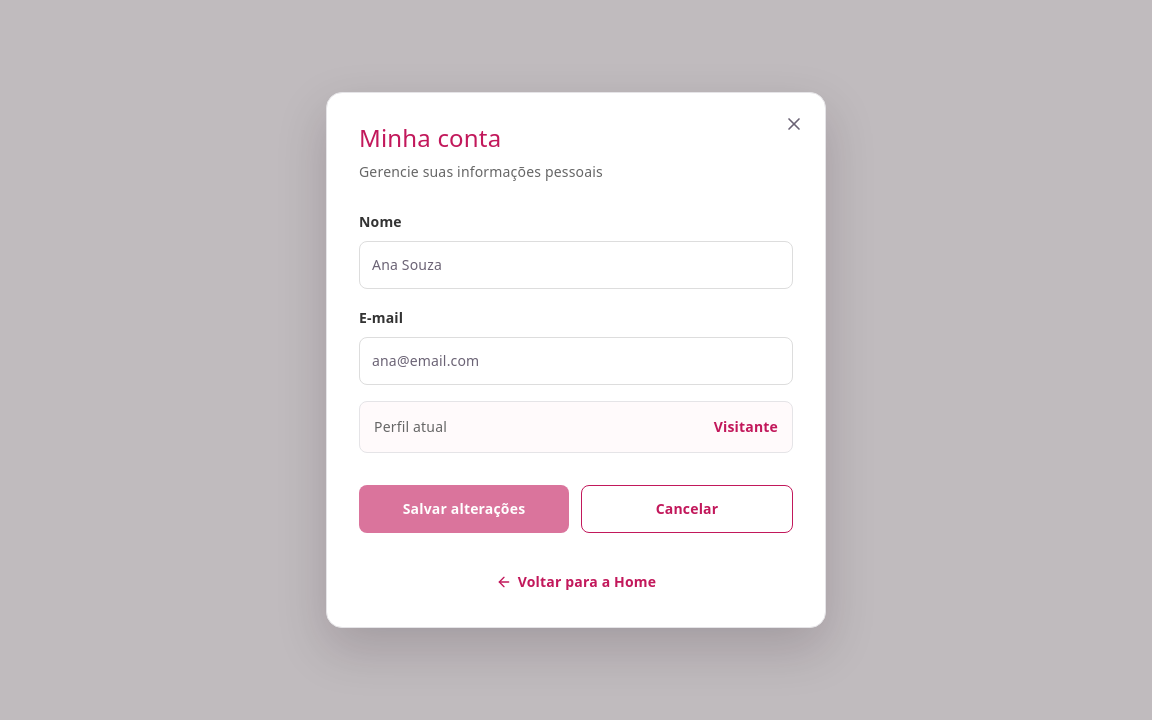
Test: Profile › salvar alterações › mostra o erro do backend (ex.: e-mail de outra conta)
The width and height of the screenshot is (1152, 720).
Replace the text in the field labelled "E-mail" with "outra@email.com": (576, 361) [359, 337, 793, 385]
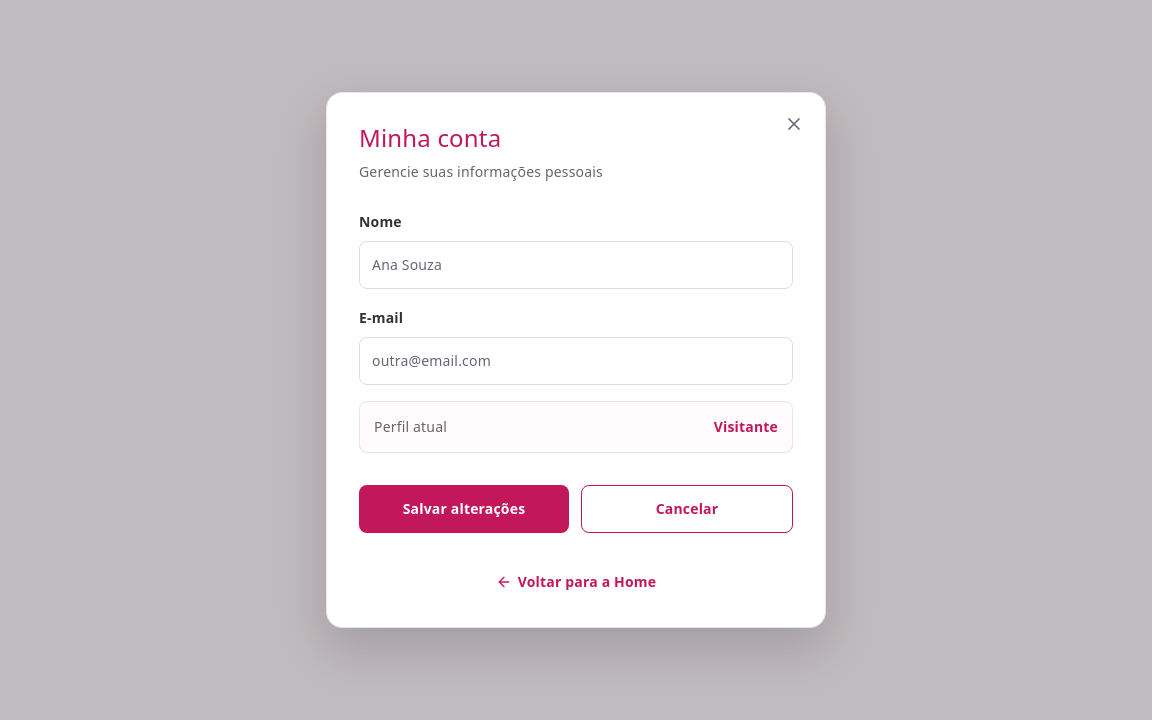
Click the button "Salvar alterações": (464, 509) [359, 485, 569, 533]
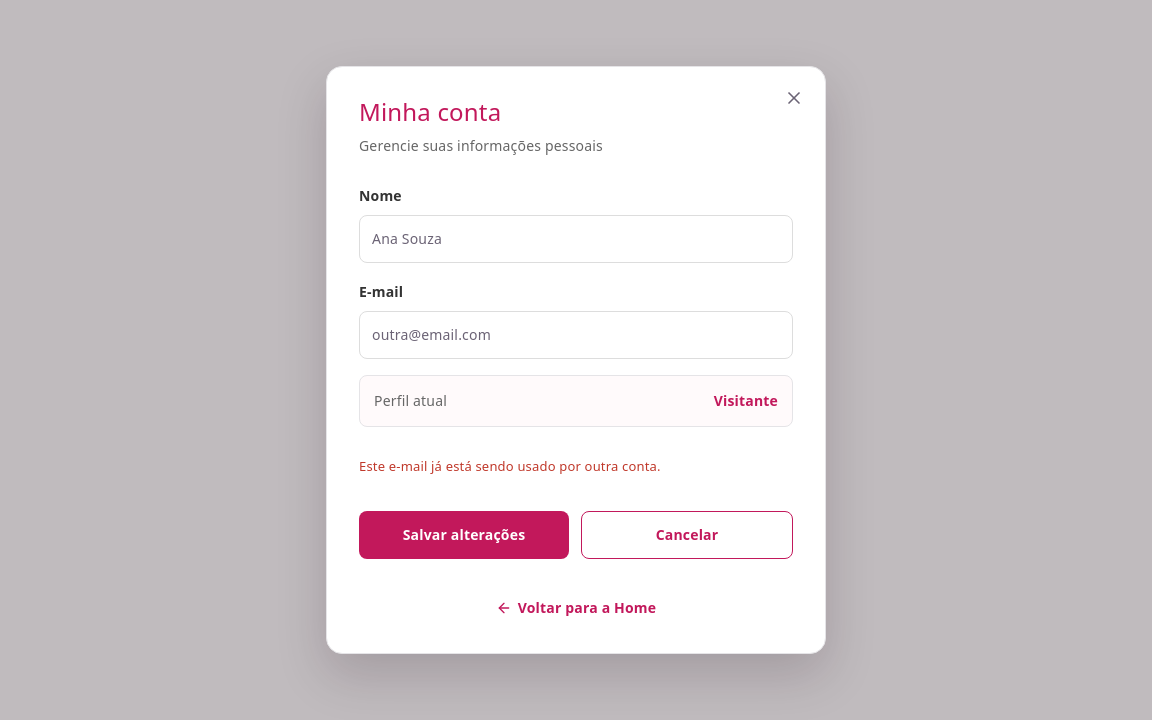
Check: the button "Salvar alterações" is enabled, box [359, 511, 569, 559]
Check: the message reads "Este e-mail já está sendo usado por outra conta.", box [359, 457, 661, 475]
